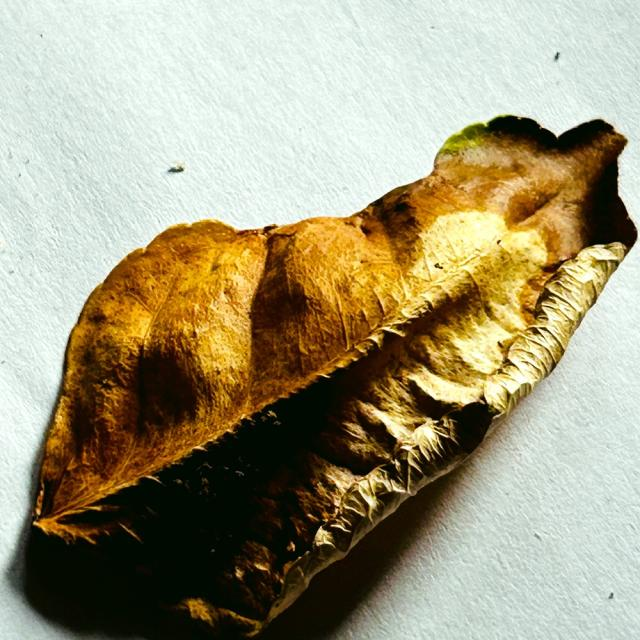DryLeaf_Lemon: (32, 116, 637, 639)
